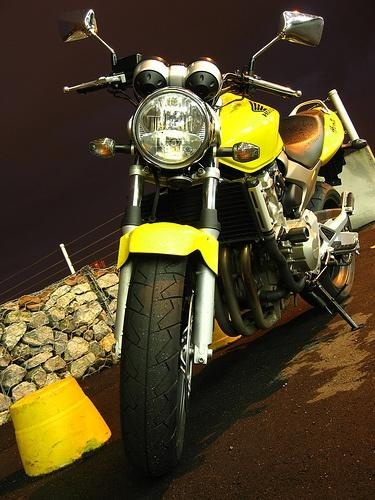motorbike: (60, 5, 360, 473)
